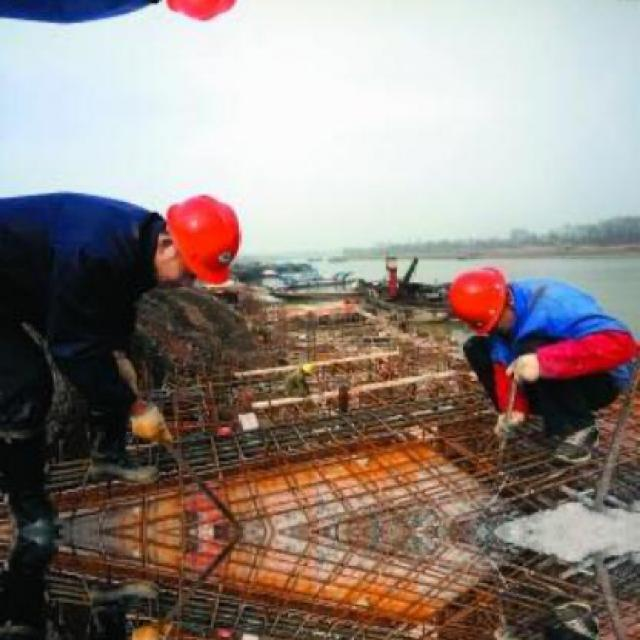helmet: (150, 192, 244, 288), (441, 261, 514, 336), (151, 0, 246, 26)
